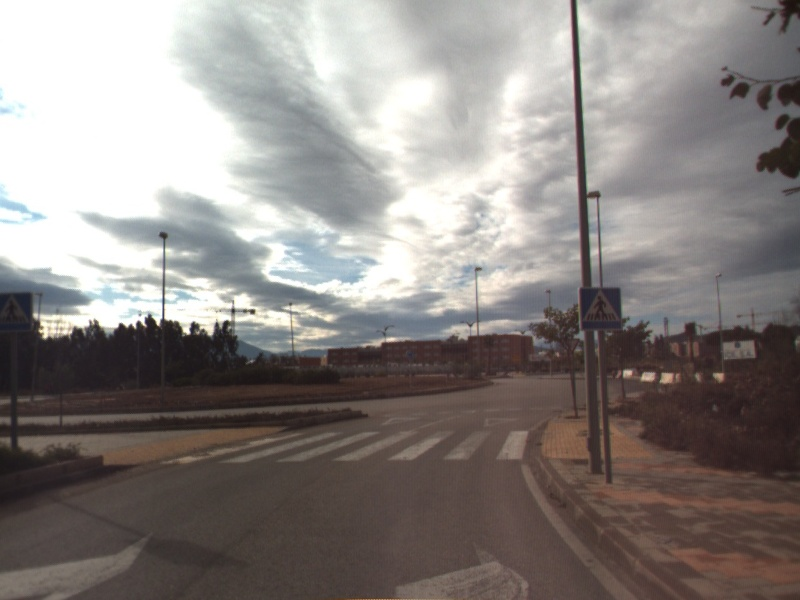RIGHT: (1, 527, 158, 600), (391, 535, 536, 600)
